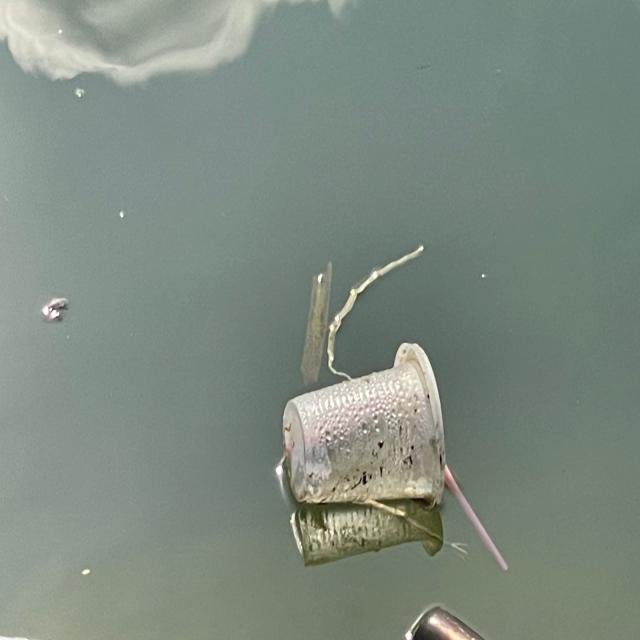Bungkus Minuman: (278, 338, 452, 521)
